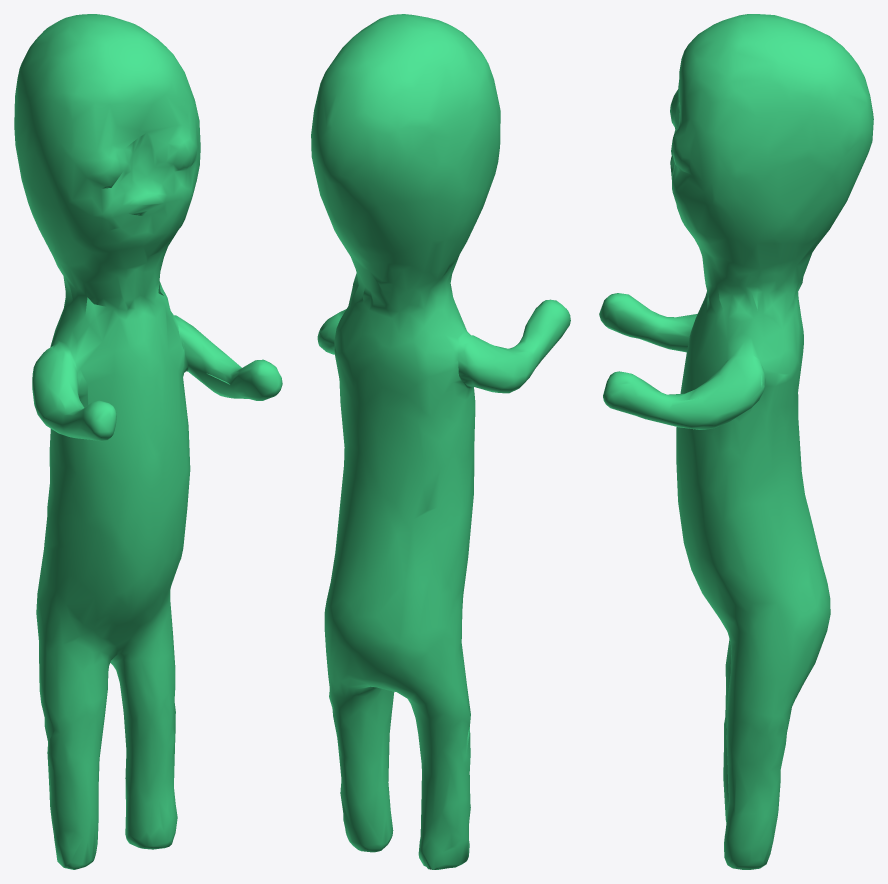
The picture shows the model from 3 angles, left to right: view 1: azimuth 30°, elevation 25°; view 2: azimuth 150°, elevation 25°; view 3: azimuth 270°, elevation 25°; orthographic projection.
Parts seen in each view (by area): view 1: Object_2; view 2: Object_2; view 3: Object_2.
Part boxes in pixels (bbox=[...]): Object_2: bbox=[14, 14, 282, 869]; Object_2: bbox=[311, 14, 570, 869]; Object_2: bbox=[599, 14, 873, 869].
Bounding box in the file's own units: 0.2468 × 1 × 0.3028.
